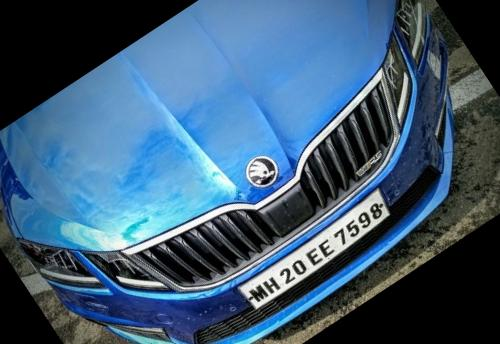plate: (230, 186, 409, 321)
